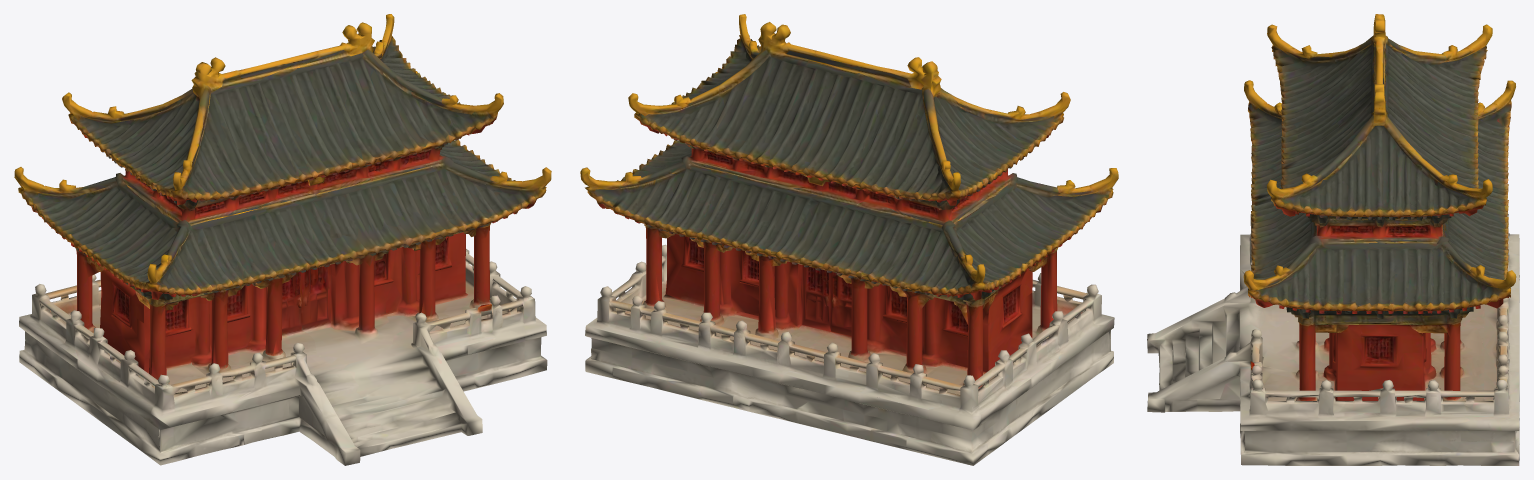
Rendered from yuewang.glb.
The picture shows the model from 3 angles, left to right: view 1: azimuth 30°, elevation 25°; view 2: azimuth 150°, elevation 25°; view 3: azimuth 270°, elevation 25°; orthographic projection.
Parts seen in each view (by area): view 1: tripo_node_bcc0025a-c48d-4979-a635-09593f41b237; view 2: tripo_node_bcc0025a-c48d-4979-a635-09593f41b237; view 3: tripo_node_bcc0025a-c48d-4979-a635-09593f41b237.
Boxes of the visible parts, x1,y1,x2,y2 form: tripo_node_bcc0025a-c48d-4979-a635-09593f41b237: (14, 14, 551, 465); tripo_node_bcc0025a-c48d-4979-a635-09593f41b237: (580, 14, 1118, 465); tripo_node_bcc0025a-c48d-4979-a635-09593f41b237: (1147, 14, 1519, 465).
Size of the model in its own units: 0.9798 by 0.751 by 0.7912.
1 material, 1 textured.
